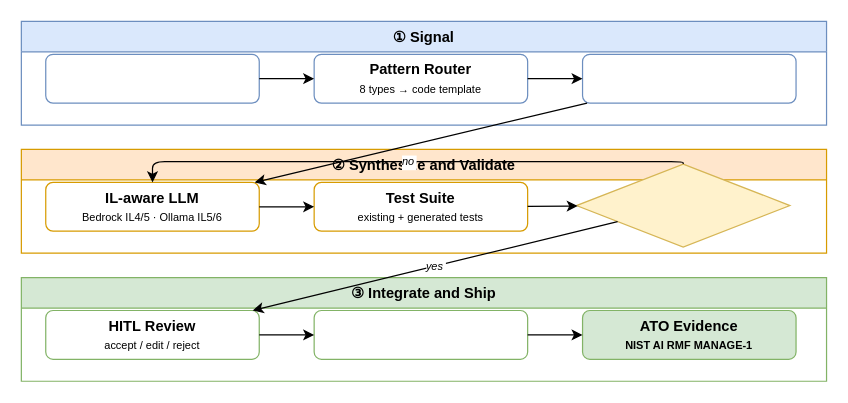
This 848x403 diagram has some shape labels left out. Each missing label, with the centre of its shape:
AI-ify Scan composite ≥ 0.70: point 152,78
Git PR + Kanban CUI-marked diff · 4 tasks: point 420,334
Priority Queue SHA-256 dedup: point 688,78
Tests Pass?: point 682,205
